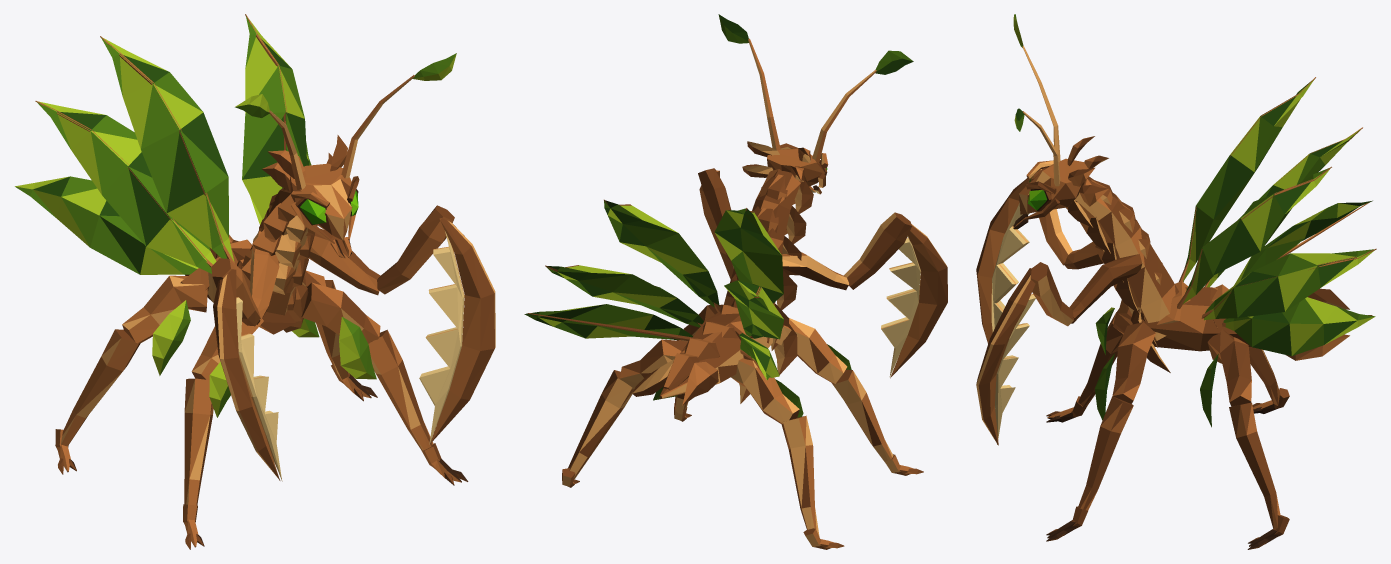
The model's file is mantis-study-complete-sculpted-anatomy.glb.
3 renders of one model, left to right at view 1: azimuth 30°, elevation 25°; view 2: azimuth 150°, elevation 25°; view 3: azimuth 270°, elevation 25°, orthographic. The views are drawn at different scales.
Parts seen in each view (by area): view 1: Leaf wing wing-1_0, Leaf wing wing-1_1, Leaf wing wing1_0, Leaf wing short -1, Swept bevelled wood sickle 1, Swept bevelled wood sickle -1, Bevelled continuous ivory teeth 1, Walking tibia leg1_0, Walking tibia leg-1_0, Walking tibia leg-1_1, Walking femur leg-1_1, Volumetric pointed insect skull (+18 smaller); view 2: Leaf wing wing1_0, Leaf wing wing-1_0, Leaf wing wing1_1, Leaf wing short 1, Swept bevelled wood sickle -1, Walking tibia leg-1_1, Walking tibia leg1_1, Abdomen core, Bevelled continuous ivory teeth -1, Leaf wing wing-1_1, Raised raptorial forearm -1, Walking femur leg-1_1 (+20 smaller); view 3: Leaf wing wing1_1, Leaf wing wing-1_0, Leaf wing short 1, Leaf wing wing1_0, Rising prothorax curved cervical arch, Swept bevelled wood sickle 1, Abdomen core, Swept bevelled wood sickle -1, Walking tibia leg1_1, Leaf wing short -1, Walking femur leg1_0, Walking tibia leg1_0 (+15 smaller).
Boxes of the visible parts, left/top/right/bottom form: Leaf wing wing-1_0: left=101, top=37, right=234, bottom=261; Leaf wing wing-1_1: left=37, top=101, right=216, bottom=273; Leaf wing wing1_0: left=242, top=16, right=307, bottom=219; Leaf wing short -1: left=15, top=176, right=198, bottom=274; Swept bevelled wood sickle 1: left=430, top=218, right=495, bottom=443; Swept bevelled wood sickle -1: left=213, top=269, right=280, bottom=480; Bevelled continuous ivory teeth 1: left=419, top=231, right=464, bottom=444; Walking tibia leg1_0: left=368, top=329, right=433, bottom=450; Walking tibia leg-1_0: left=184, top=378, right=213, bottom=505; Walking tibia leg-1_1: left=61, top=329, right=140, bottom=446; Walking femur leg-1_1: left=122, top=275, right=207, bottom=343; Volumetric pointed insect skull: left=290, top=163, right=352, bottom=240; Leaf wing wing1_0: left=604, top=200, right=719, bottom=307; Leaf wing wing-1_0: left=714, top=208, right=783, bottom=303; Leaf wing wing1_1: left=546, top=265, right=703, bottom=327; Leaf wing short 1: left=524, top=304, right=692, bottom=339; Swept bevelled wood sickle -1: left=890, top=224, right=947, bottom=378; Walking tibia leg-1_1: left=781, top=415, right=819, bottom=536; Walking tibia leg1_1: left=568, top=370, right=633, bottom=479; Abdomen core: left=659, top=311, right=773, bottom=398; Bevelled continuous ivory teeth -1: left=881, top=236, right=920, bottom=376; Leaf wing wing-1_1: left=724, top=280, right=784, bottom=339; Raised raptorial forearm -1: left=844, top=212, right=911, bottom=289; Walking femur leg-1_1: left=731, top=358, right=799, bottom=423; Leaf wing wing1_1: left=1204, top=249, right=1374, bottom=320; Leaf wing wing-1_0: left=1183, top=79, right=1314, bottom=281; Leaf wing short 1: left=1223, top=297, right=1375, bottom=356; Leaf wing wing1_0: left=1183, top=168, right=1329, bottom=303; Rising prothorax curved cervical arch: left=1075, top=176, right=1178, bottom=340; Swept bevelled wood sickle 1: left=976, top=268, right=1035, bottom=445; Abdomen core: left=1141, top=287, right=1251, bottom=351; Swept bevelled wood sickle -1: left=976, top=175, right=1033, bottom=343; Walking tibia leg1_1: left=1229, top=402, right=1280, bottom=528; Leaf wing short -1: left=1234, top=200, right=1372, bottom=285; Walking femur leg1_0: left=1112, top=322, right=1155, bottom=403; Walking tibia leg1_0: left=1078, top=396, right=1133, bottom=510.
Size of the model in its own units: 2.73 by 3.76 by 3.24.
